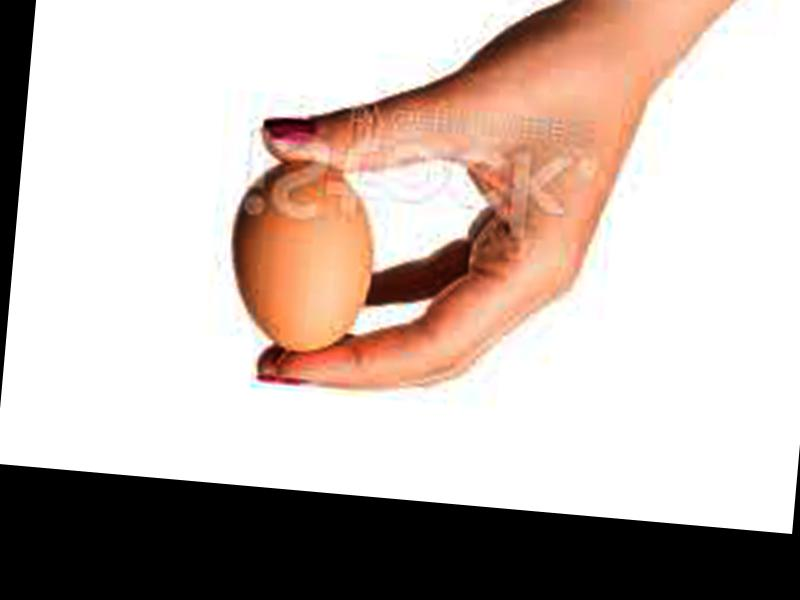Eggs: (229, 154, 378, 356)
